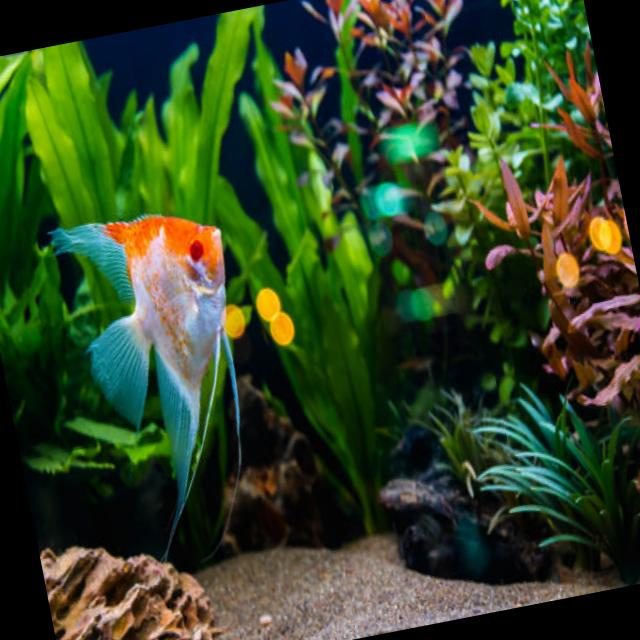AngelFish: (42, 193, 288, 592)
